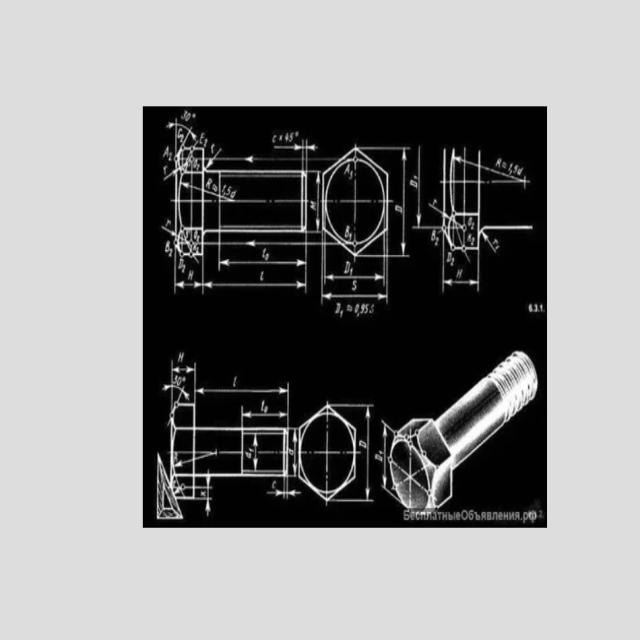marking_line: (201, 256, 308, 293), (320, 257, 391, 307), (218, 234, 309, 270), (412, 147, 442, 232), (389, 146, 411, 259), (193, 381, 290, 402), (324, 257, 386, 286), (456, 154, 522, 181), (358, 404, 375, 503), (442, 252, 481, 292), (273, 139, 319, 169), (173, 256, 206, 295), (246, 155, 324, 170), (170, 359, 196, 403), (239, 404, 290, 426), (164, 118, 196, 147), (308, 170, 322, 235), (265, 477, 302, 500), (380, 419, 390, 494), (196, 477, 214, 516), (175, 453, 216, 468), (160, 384, 190, 402), (289, 427, 298, 477), (482, 231, 498, 254), (206, 149, 221, 168), (252, 435, 259, 471), (164, 167, 177, 181), (161, 225, 176, 236), (182, 182, 191, 188)
numeric: (205, 176, 213, 191), (342, 259, 350, 274), (162, 146, 170, 158), (198, 131, 205, 144), (260, 246, 267, 259), (344, 162, 351, 175), (230, 188, 239, 198), (310, 199, 317, 211), (492, 235, 499, 247), (233, 374, 239, 388), (352, 279, 358, 292), (430, 229, 436, 242), (180, 109, 187, 120), (335, 302, 341, 314), (394, 204, 402, 213), (446, 251, 452, 263), (495, 156, 501, 168), (178, 351, 184, 363), (368, 304, 375, 314), (345, 225, 350, 239), (283, 131, 289, 142), (187, 269, 193, 280), (353, 302, 359, 313), (456, 269, 462, 280), (165, 241, 170, 254), (409, 180, 417, 188), (185, 113, 192, 122), (517, 167, 524, 176), (176, 376, 183, 385), (289, 132, 295, 142), (226, 186, 232, 196), (364, 302, 369, 314), (513, 163, 518, 175), (271, 134, 277, 144), (260, 400, 265, 412), (211, 140, 215, 154), (222, 182, 227, 193), (177, 127, 182, 138), (259, 270, 264, 281), (181, 263, 186, 274), (507, 161, 512, 172), (179, 257, 183, 270), (468, 216, 472, 229), (204, 137, 209, 147), (168, 247, 173, 257), (339, 309, 344, 319), (348, 170, 353, 180), (174, 374, 179, 384), (431, 198, 437, 206), (168, 152, 173, 161), (213, 184, 218, 193), (471, 221, 476, 230), (528, 304, 533, 313), (534, 303, 539, 312), (360, 303, 364, 314), (468, 233, 472, 244), (471, 236, 475, 246), (435, 237, 439, 246), (451, 257, 455, 266), (540, 303, 544, 312), (350, 268, 354, 275), (265, 253, 268, 262), (180, 134, 183, 142), (414, 175, 418, 180), (496, 244, 499, 250)
special_symbol: (346, 304, 353, 313), (264, 405, 268, 414), (295, 130, 299, 138), (182, 375, 186, 383), (278, 135, 283, 141), (544, 309, 546, 313)
